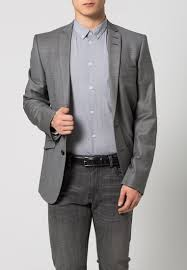F_M_suit jacket: (24, 28, 156, 205)
F_belt: (56, 146, 130, 172)
